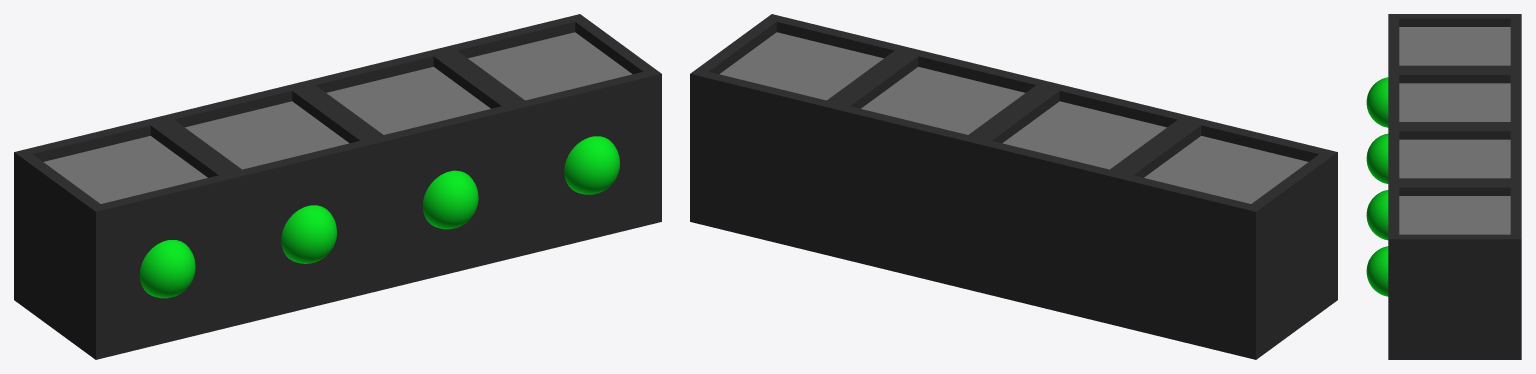
The model's file is Desk.fbx.
3 views of the same model, side by side, from view 1: azimuth 30°, elevation 25°; view 2: azimuth 150°, elevation 25°; view 3: azimuth 270°, elevation 25° (orthographic). The views are drawn at different scales.
Parts seen in each view (by area): view 1: Cube, Cube.001, Sphere.002, Sphere, Sphere.001, Sphere.003; view 2: Cube, Cube.001; view 3: Cube, Cube.001, Sphere.001, Sphere.002, Sphere, Sphere.003.
Part boxes in pixels (x1,y1,x2,y2): Cube: (14,14,661,359); Cube.001: (43,32,632,203); Sphere.002: (422,170,478,229); Sphere: (139,240,195,298); Sphere.001: (281,205,336,263); Sphere.003: (564,136,619,194); Cube: (690,14,1337,359); Cube.001: (719,32,1308,203); Cube: (1388,14,1521,359); Cube.001: (1399,27,1510,234); Sphere.001: (1366,133,1388,183); Sphere.002: (1366,190,1388,240); Sphere: (1366,77,1388,127); Sphere.003: (1366,246,1388,296).
Bounding box in the file's own units: 800 × 200 × 233.
